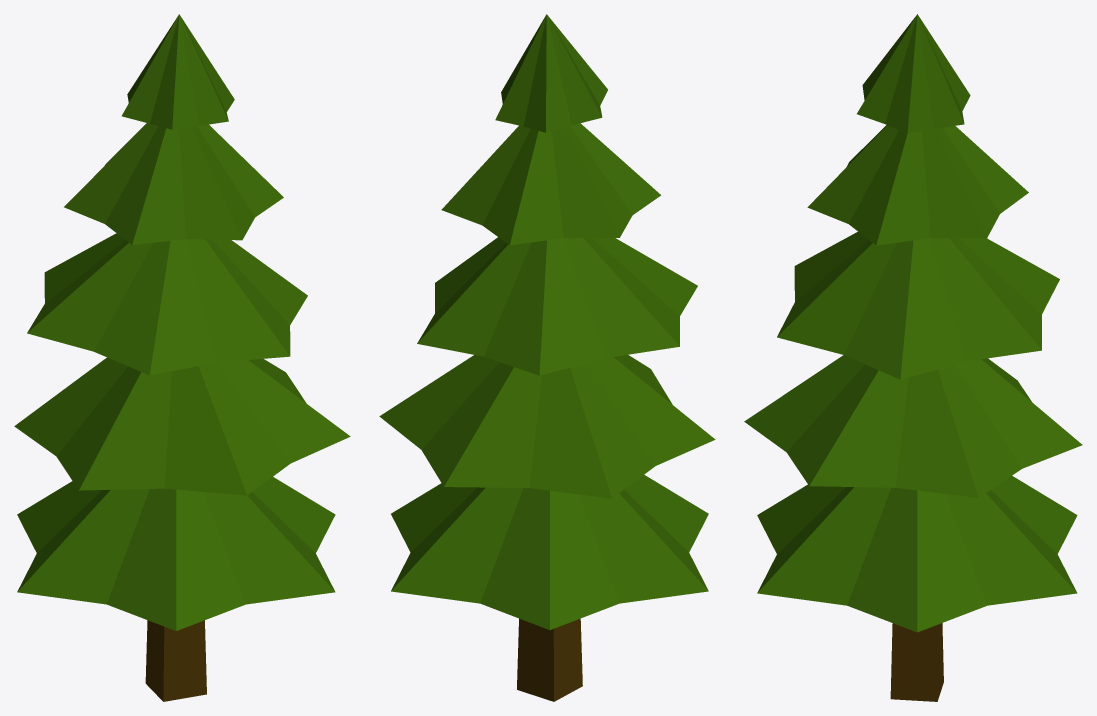
The model's file is weebltreesharptoo.fbx.
The picture shows the model from 3 angles, left to right: view 1: azimuth 30°, elevation 25°; view 2: azimuth 150°, elevation 25°; view 3: azimuth 270°, elevation 25°; orthographic projection.
Parts seen in each view (by area): view 1: pCone6; view 2: pCone6; view 3: pCone6.
Boxes of the visible parts, x1,y1,x2,y2 form: pCone6: (14,14,350,701); pCone6: (379,14,715,701); pCone6: (744,14,1082,701).
Bounding box in the file's own units: 105 × 213 × 96.26.
